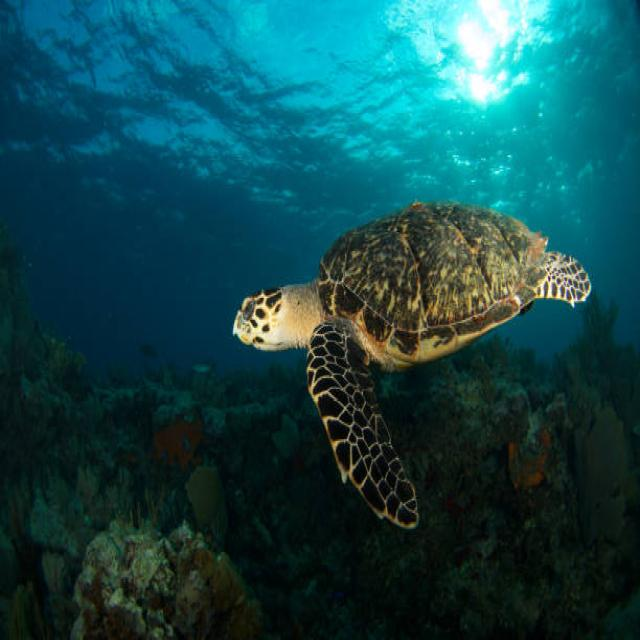sea turtle: (316, 183, 601, 381), (301, 313, 431, 544), (224, 273, 334, 364)
